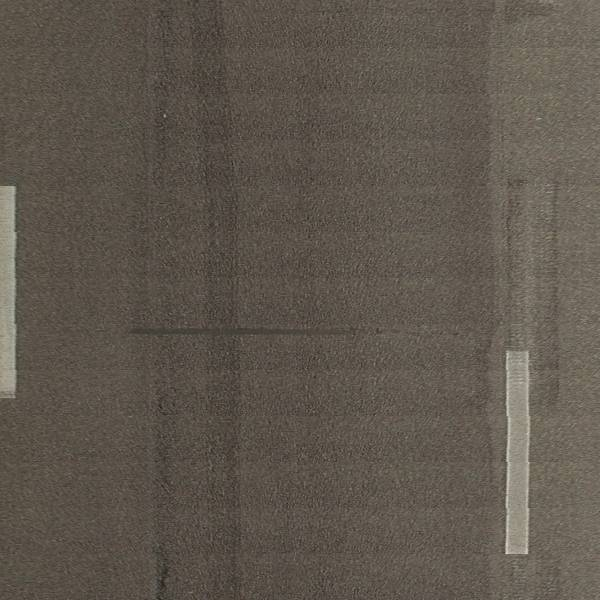road_damage: (126, 322, 447, 339)
